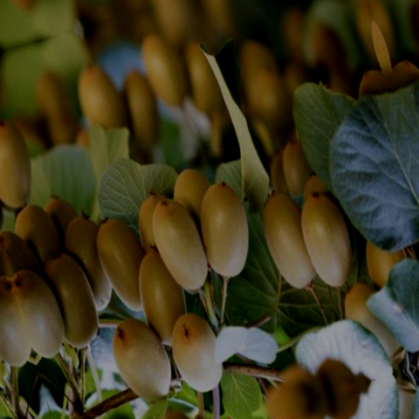kiwi: (180, 167, 270, 308), (22, 227, 113, 366), (247, 183, 332, 306), (98, 302, 181, 415), (145, 193, 226, 307), (290, 177, 365, 299), (0, 108, 47, 224)
